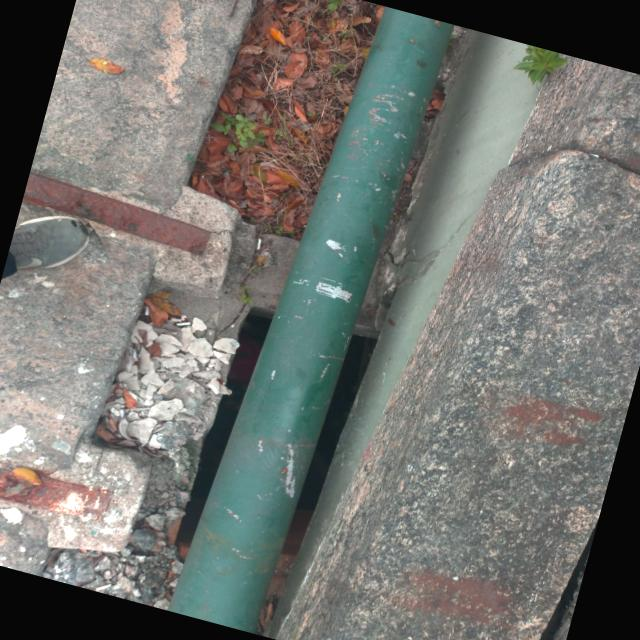gas: (172, 8, 452, 629)
